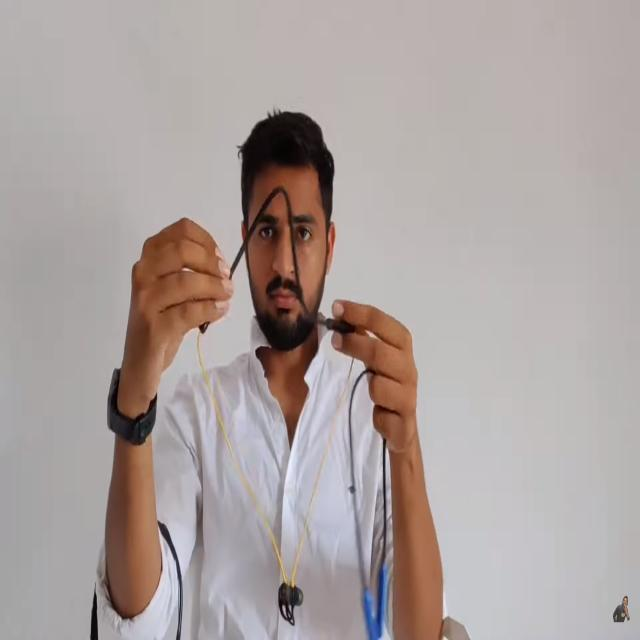Neckband: (196, 186, 355, 627), (348, 366, 388, 640)
